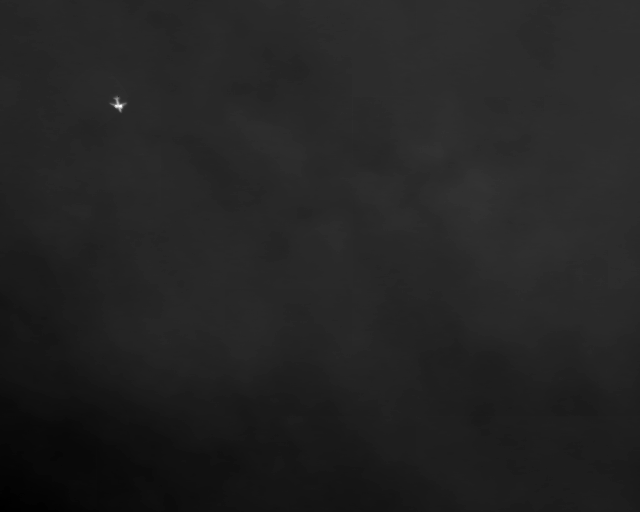Target: (110, 96, 127, 113)
